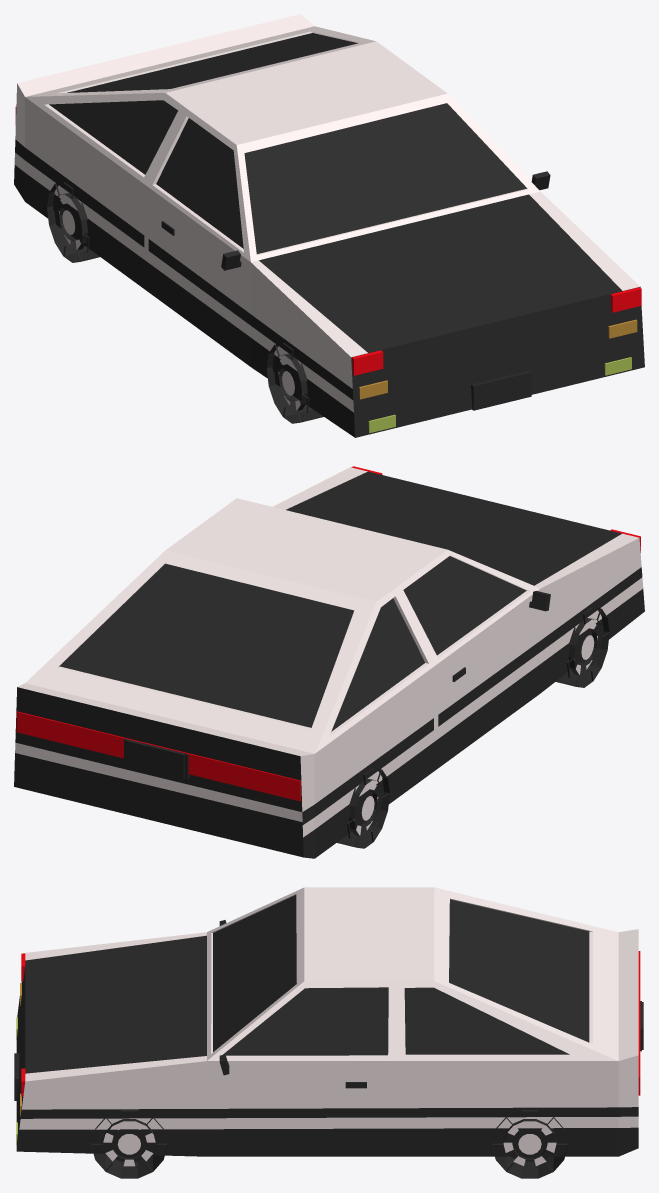
3 renders of one model, top to bottom at view 1: azimuth 30°, elevation 25°; view 2: azimuth 150°, elevation 25°; view 3: azimuth 270°, elevation 25°, orthographic. The views are drawn at different scales.
Parts seen in each view (by area): view 1: Cube; view 2: Cube; view 3: Cube.
Boxes of the visible parts, x1,y1,x2,y2 form: Cube: (14,14,644,437); Cube: (14,466,644,858); Cube: (14,887,643,1178).
Size of the model in its own units: 2.24 by 1.28 by 4.14.
